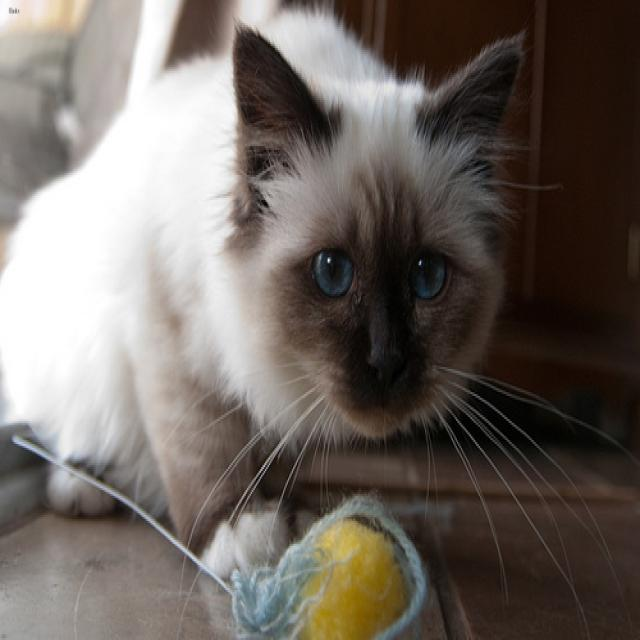cat: (230, 23, 520, 432)
